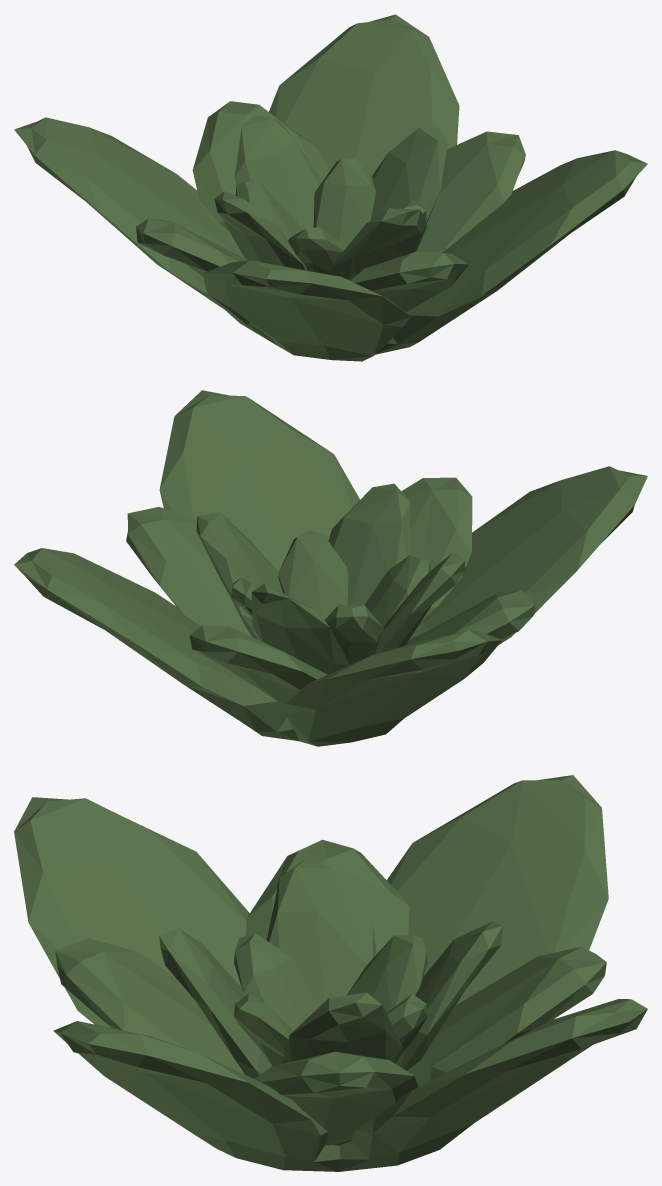
The model's file is CactusFlower_1.lod1.glb.
3 views of the same model, one above another, from view 1: azimuth 30°, elevation 25°; view 2: azimuth 150°, elevation 25°; view 3: azimuth 270°, elevation 25° (orthographic). The views are drawn at different scales.
Parts seen in each view (by area): view 1: CactusFlower_1; view 2: CactusFlower_1; view 3: CactusFlower_1.
Boxes of the visible parts, x1,y1,x2,y2 form: CactusFlower_1: (14, 14, 647, 361); CactusFlower_1: (14, 390, 647, 746); CactusFlower_1: (14, 775, 647, 1171).
Size of the model in its own units: 0.8819 by 0.3618 by 0.8683.
